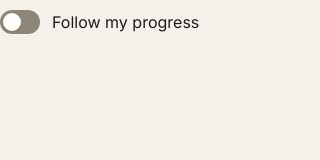
Toggle (switch) › is role=switch, reflects state, toggles on click and draws a check for the on state
Click the switch labelled "Follow my progress" at (100, 22), box [0,10,199,34]
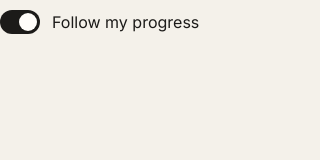
Now the switch labelled "Follow my progress" is checked, box [0,10,199,34]
